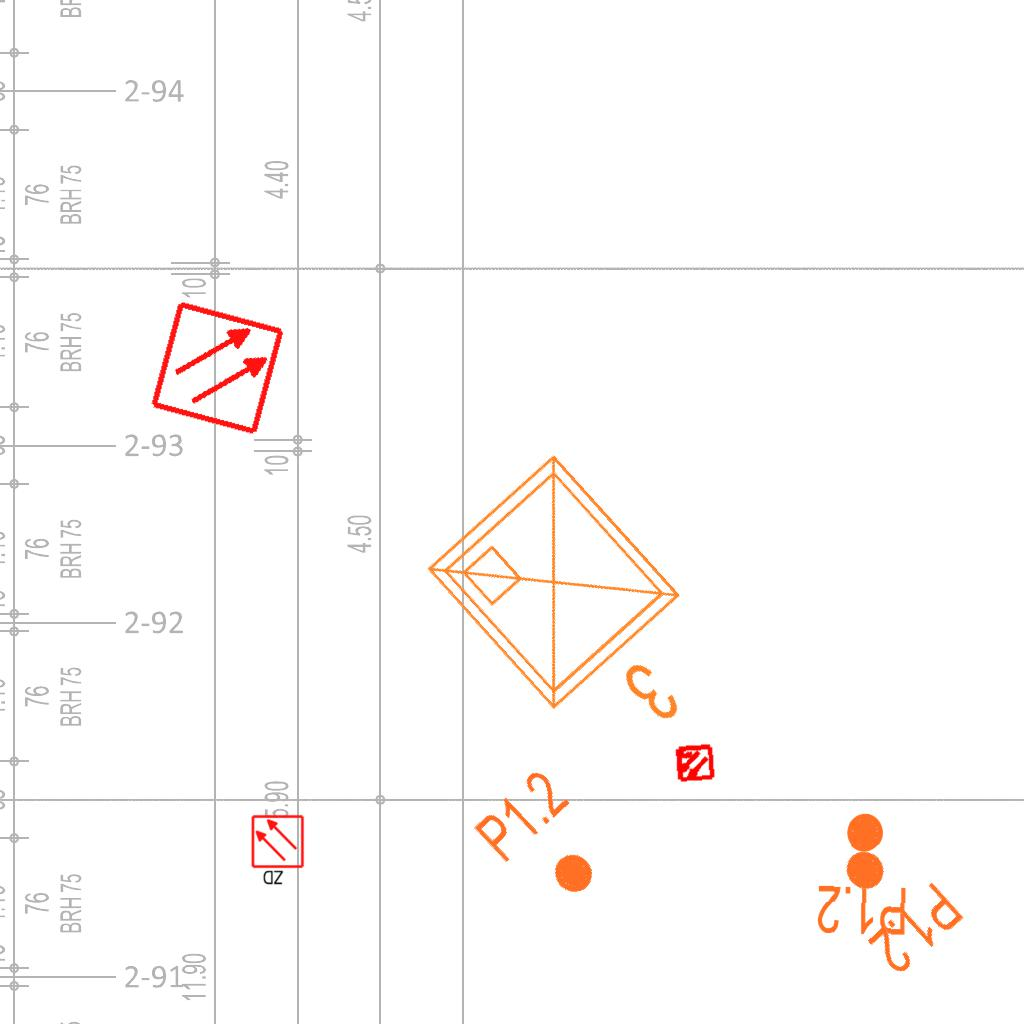Downlight_LED_Einbauleuchten_Flur: (468, 763, 625, 921), (814, 823, 969, 981), (814, 809, 911, 939)
Einbaudownlights_LED_Konferenzraeume: (406, 428, 762, 792)
OT_Multisensormelder_(Kombination_RMO_WMD): (664, 733, 724, 793)
RMO_Rauchmelder_optischer: (148, 298, 287, 437)
ZD_Melder_in_Zwischendecke_mit_Revisionsoeffnung_mind_40_x_40_cm: (250, 814, 307, 888)
